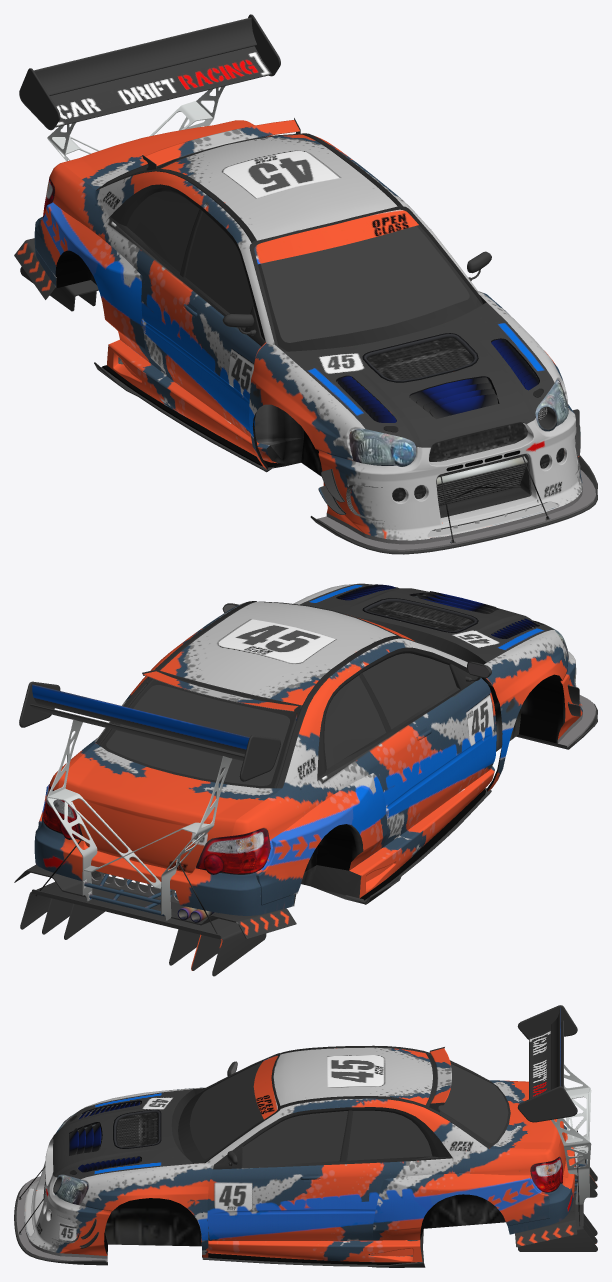
Rendered from car 20.fbx.
3 views of the same model, one above another, from view 1: azimuth 30°, elevation 25°; view 2: azimuth 150°, elevation 25°; view 3: azimuth 270°, elevation 25° (orthographic). The views are drawn at different scales.
Parts seen in each view (by area): view 1: body, spiler; view 2: body, spiler; view 3: body, spiler.
Boxes of the visible parts, bbox=[...] form: body: bbox=[14, 118, 597, 554]; spiler: bbox=[19, 14, 280, 161]; body: bbox=[14, 583, 597, 976]; spiler: bbox=[19, 681, 280, 934]; body: bbox=[14, 1045, 597, 1267]; spiler: bbox=[517, 1005, 591, 1226].
Bounding box in the file's own units: 2.01 × 1.59 × 4.86.
